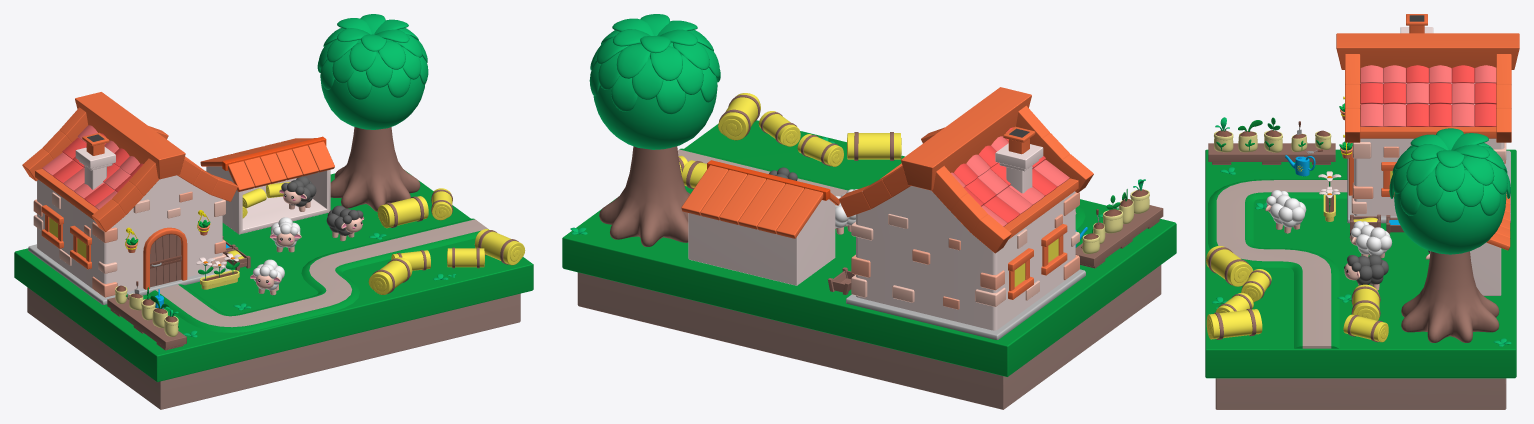
File: Farm_Island_15.glb
3 views of the same model, side by side, from view 1: azimuth 30°, elevation 25°; view 2: azimuth 150°, elevation 25°; view 3: azimuth 270°, elevation 25° (orthographic). The views are drawn at different scales.
Parts seen in each view (by area): view 1: Farm_15_Base_1, Farm_15_House_1, Farm_15_Tree_1, Farm_15_Sheep_House_1, Farm_15_Path_6, Farm_15_Path_2, Farm_15_Path_3, Farm_15_Stand_1, Farm_15_Path_4, Farm_15_Hay_5, Farm_15_Hay_6, Farm_15_Path_5 (+10 smaller); view 2: Farm_15_Base_1, Farm_15_House_1, Farm_15_Tree_1, Farm_15_Sheep_House_1, Farm_15_Stand_1, Farm_15_Hay_8, Farm_15_Hay_6, Farm_15_Hay_9, Farm_15_Hay_7, Farm_15_Path_6, Farm_15_Bag_with_Plant_1; view 3: Farm_15_Base_1, Farm_15_House_1, Farm_15_Tree_1, Farm_15_Path_6, Farm_15_Sheep_House_1, Farm_15_Stand_1, Farm_15_Path_3, Farm_15_Hay_6, Farm_15_Path_5, Farm_15_Path_2, Farm_15_Hay_8, Farm_15_Path_1 (+14 smaller).
Part boxes in pixels (bbox=[...]): Farm_15_Base_1: bbox=[14, 171, 533, 409]; Farm_15_House_1: bbox=[22, 92, 237, 304]; Farm_15_Tree_1: bbox=[317, 14, 428, 211]; Farm_15_Sheep_House_1: bbox=[200, 136, 334, 234]; Farm_15_Path_6: bbox=[336, 218, 488, 267]; Farm_15_Path_2: bbox=[183, 309, 264, 332]; Farm_15_Path_3: bbox=[246, 297, 326, 327]; Farm_15_Stand_1: bbox=[107, 294, 186, 350]; Farm_15_Path_4: bbox=[307, 277, 359, 312]; Farm_15_Hay_5: bbox=[377, 196, 428, 228]; Farm_15_Hay_6: bbox=[474, 229, 525, 265]; Farm_15_Path_5: bbox=[301, 252, 355, 286]; Farm_15_Base_1: bbox=[562, 120, 1176, 409]; Farm_15_House_1: bbox=[838, 87, 1093, 339]; Farm_15_Tree_1: bbox=[589, 14, 720, 246]; Farm_15_Sheep_House_1: bbox=[681, 160, 839, 285]; Farm_15_Stand_1: bbox=[1075, 205, 1163, 268]; Farm_15_Hay_8: bbox=[847, 132, 901, 160]; Farm_15_Hay_6: bbox=[718, 93, 760, 140]; Farm_15_Hay_9: bbox=[797, 134, 843, 166]; Farm_15_Hay_7: bbox=[758, 111, 800, 146]; Farm_15_Path_6: bbox=[677, 148, 842, 194]; Farm_15_Bag_with_Plant_1: bbox=[1102, 195, 1123, 233]; Farm_15_Base_1: bbox=[1205, 149, 1516, 409]; Farm_15_House_1: bbox=[1336, 14, 1519, 223]; Farm_15_Tree_1: bbox=[1389, 128, 1510, 342]; Farm_15_Path_6: bbox=[1294, 273, 1339, 348]; Farm_15_Sheep_House_1: bbox=[1430, 194, 1510, 295]; Farm_15_Stand_1: bbox=[1208, 143, 1335, 164]; Farm_15_Path_3: bbox=[1208, 204, 1253, 239]; Farm_15_Hay_6: bbox=[1206, 308, 1262, 339]; Farm_15_Path_5: bbox=[1274, 248, 1339, 275]; Farm_15_Path_2: bbox=[1208, 179, 1273, 206]; Farm_15_Hay_8: bbox=[1206, 246, 1253, 286]; Farm_15_Path_1: bbox=[1274, 179, 1347, 198].
Size of the model in its own units: 16.75 by 9.63 by 11.11.
Materials: 47 (47 with a texture image).
